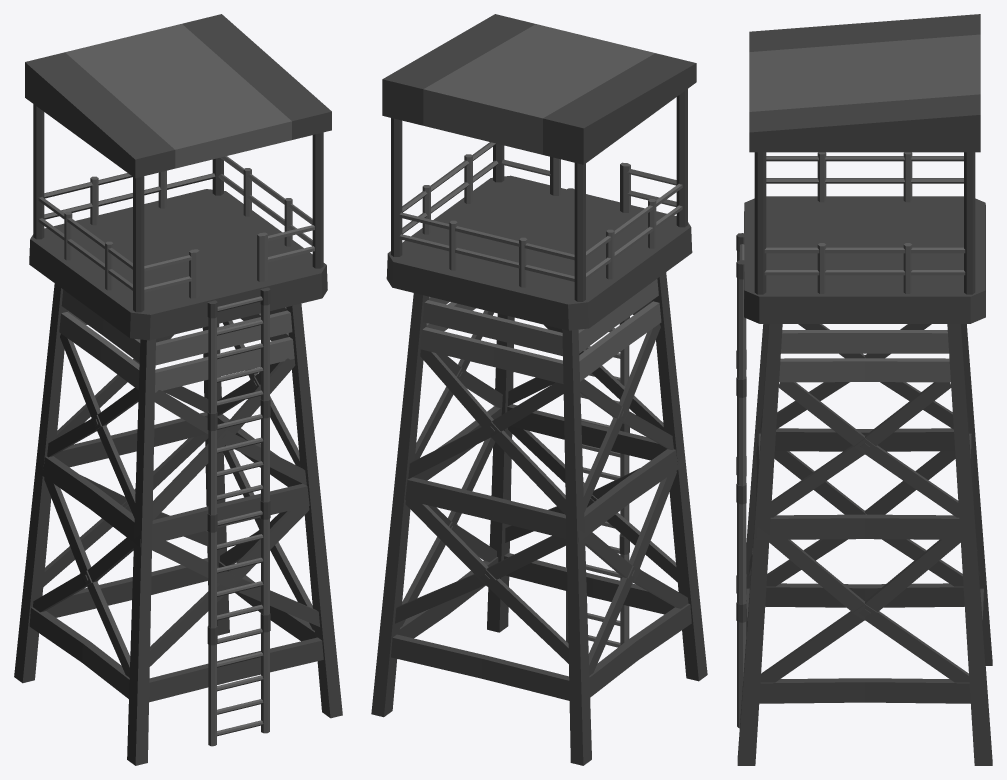
File: WatchTower.fbx
The picture shows the model from 3 angles, left to right: view 1: azimuth 30°, elevation 25°; view 2: azimuth 150°, elevation 25°; view 3: azimuth 270°, elevation 25°; orthographic projection. The views are drawn at different scales.
Visible parts, largest first — view 1: Watchtower_LOD0; view 2: Watchtower_LOD0; view 3: Watchtower_LOD0.
Part boxes in pixels (box(x1,y1,x2,y2)): Watchtower_LOD0: box(14, 14, 342, 765); Watchtower_LOD0: box(371, 14, 707, 765); Watchtower_LOD0: box(736, 14, 992, 765).
Size of what is drawn, in the model's own units: 525 by 1494 by 535.
Materials: 1 (1 with a texture image).
